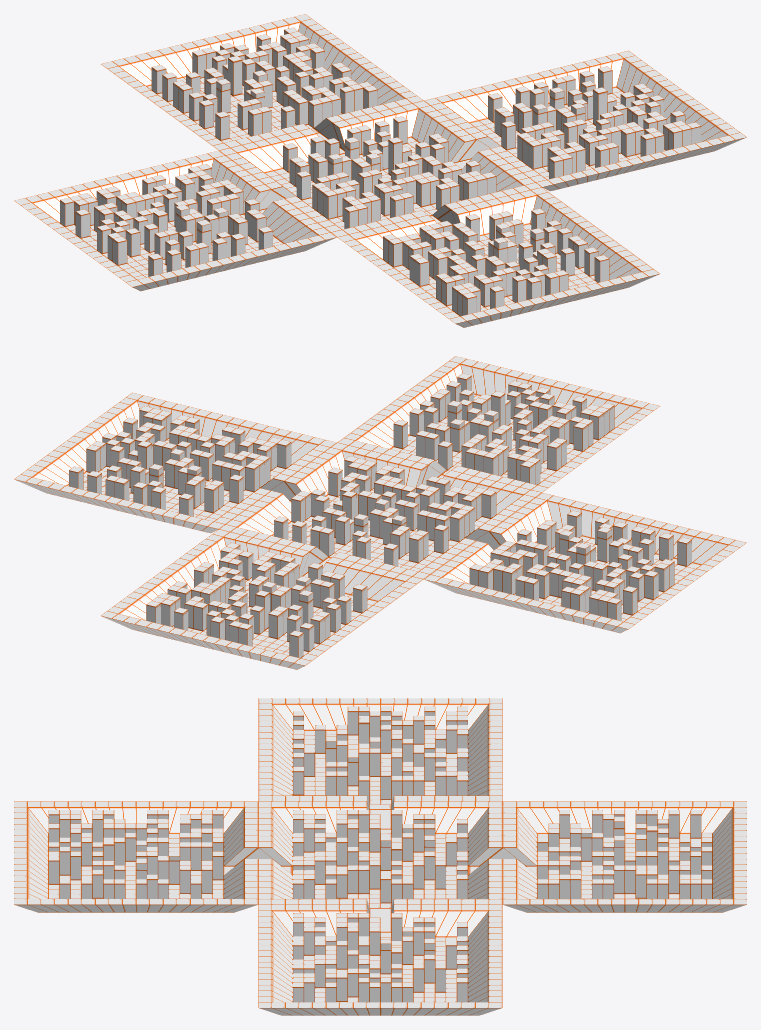
3 renders of one model, top to bottom at view 1: azimuth 30°, elevation 25°; view 2: azimuth 150°, elevation 25°; view 3: azimuth 270°, elevation 25°, orthographic. The views are drawn at different scales.
Parts seen in each view (by area): view 1: Сетка; view 2: Сетка; view 3: Сетка.
Boxes of the visible parts, left/top/right/bottom form: Сетка: left=14, top=14, right=746, bottom=327; Сетка: left=14, top=356, right=746, bottom=669; Сетка: left=14, top=698, right=746, bottom=1015.
Bounding box in the file's own units: 3723 × 200 × 3723.
1 material, 1 textured.
